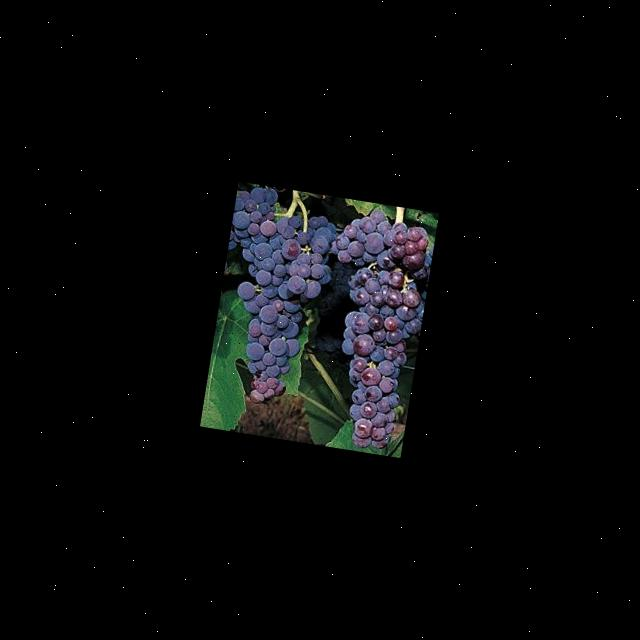grape: (200, 182, 438, 456)
